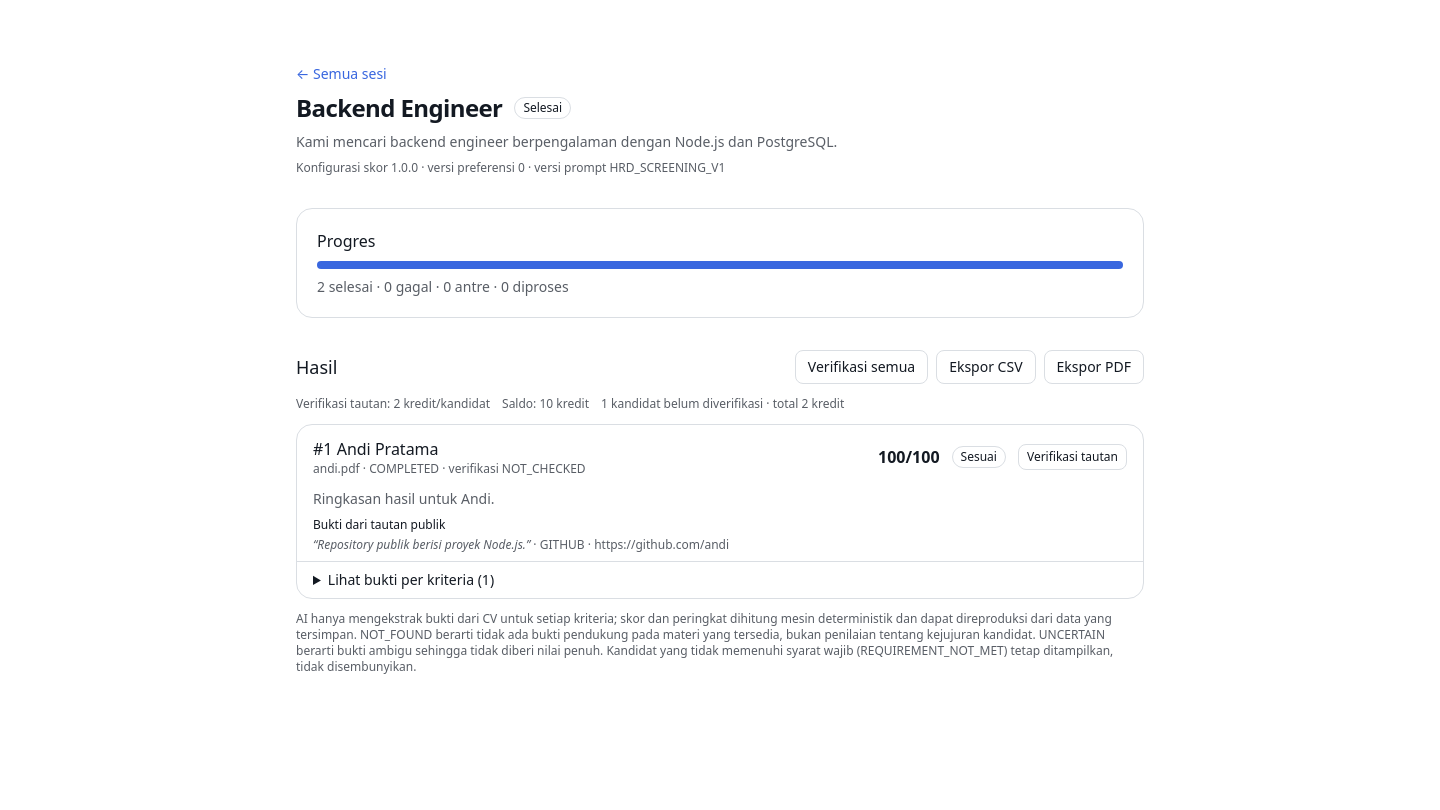
Test: ScreeningJobPage › shows verified link evidence and confirms one candidate before spending credits
This screenshot has width=1440, height=810.
Expected: the text "Bukti dari tautan publik" is shown, [313,516,445,533]
Expected: the text "“Repository publik berisi proyek Node.js.”" is shown, [313,536,530,553]
Click the button "Verifikasi tautan" at [1072, 457], box [1018,444,1127,470]
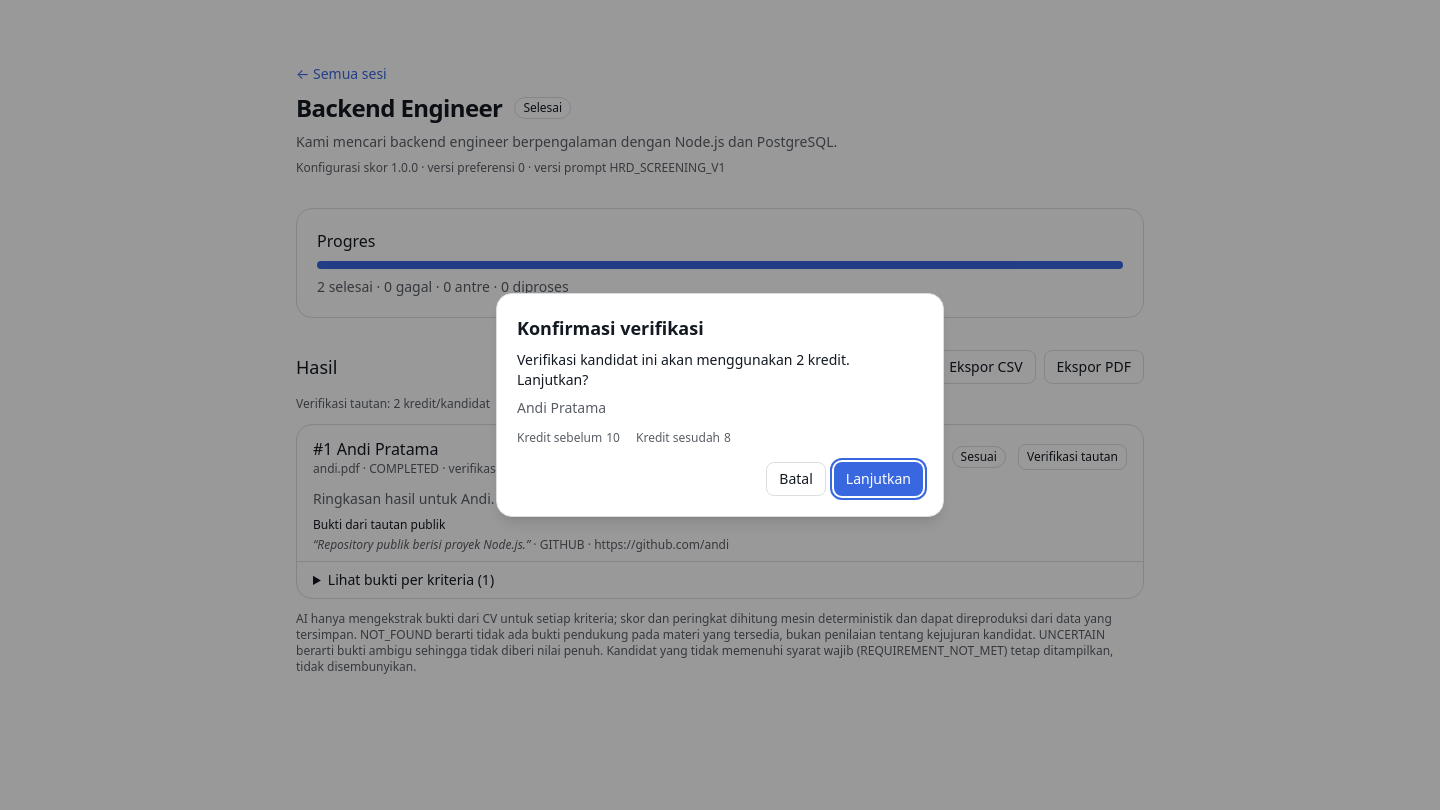
Expected: the dialog shows "Verifikasi kandidat ini akan menggunakan 2 kredit. Lanjutkan?", [496,293,944,517]
Expected: the dialog shows "Kredit sebelum", [517,429,602,446]
Expected: the dialog shows "Kredit sesudah", [636,429,720,446]
Click the button "Lanjutkan" at [878, 479], box [834,462,923,496]
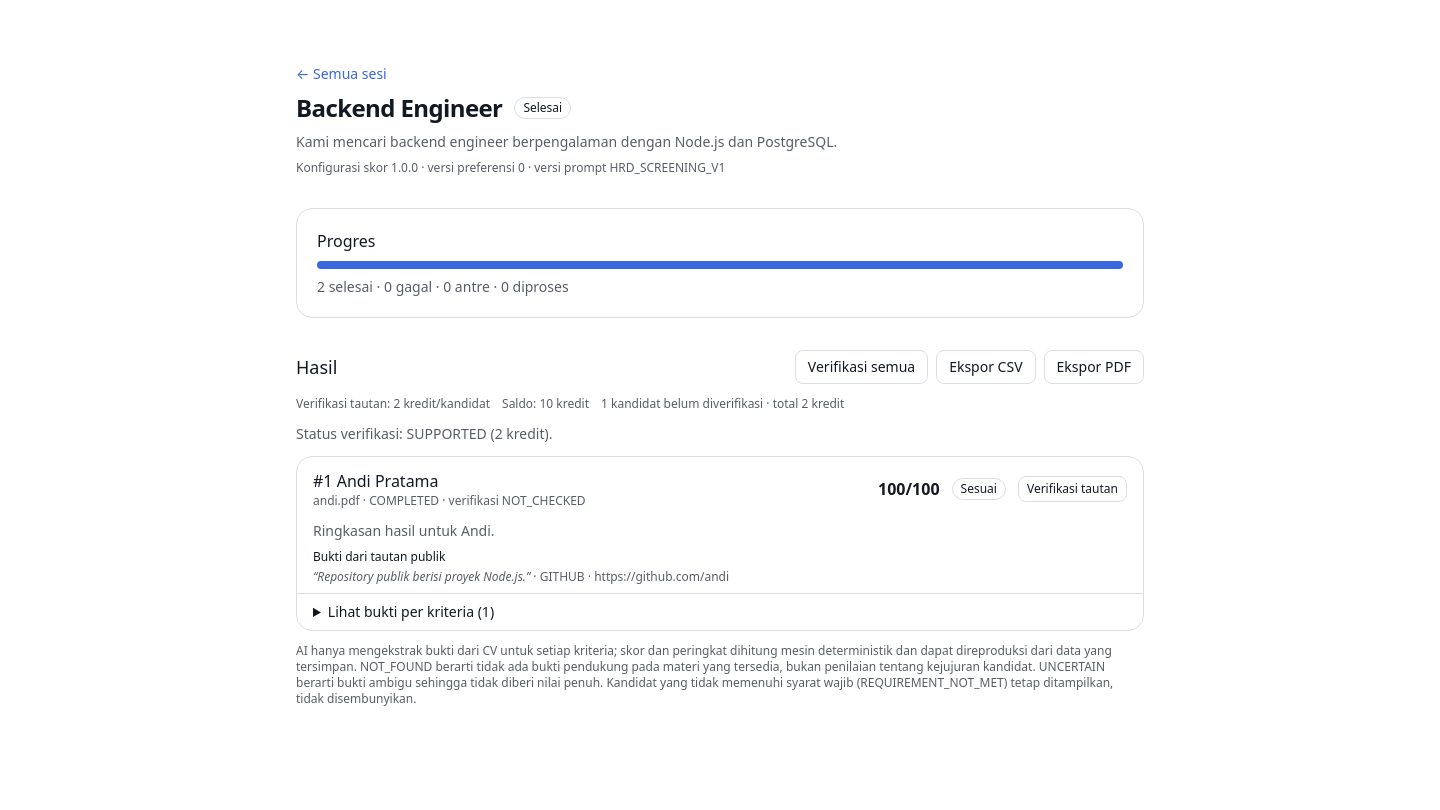
Expected: the text "Status verifikasi: SUPPORTED (2 kredit)." is shown, [296,424,552,443]
